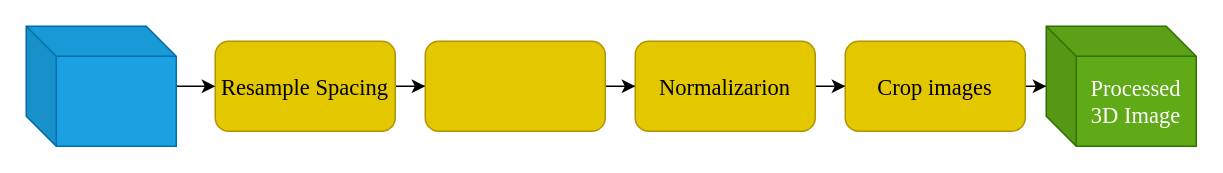
Some shapes in this 1223 by 173 pixel diagram are drawn without their labels. The shapes that lost their labels are listed below. From the top down, each one's centre as x and y in pixels, then its label:
At (x=100, y=85): "Raw 3D Image".
At (x=514, y=85): "Delete head and abdominal parts".
